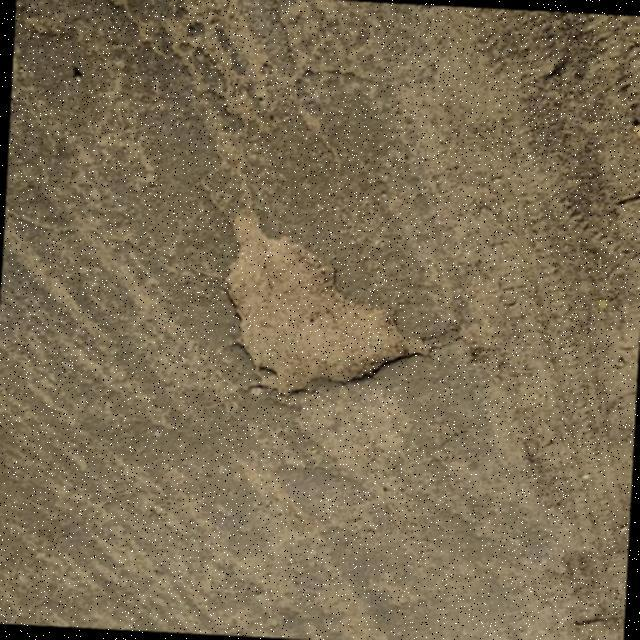Pothole: (226, 200, 426, 393)
